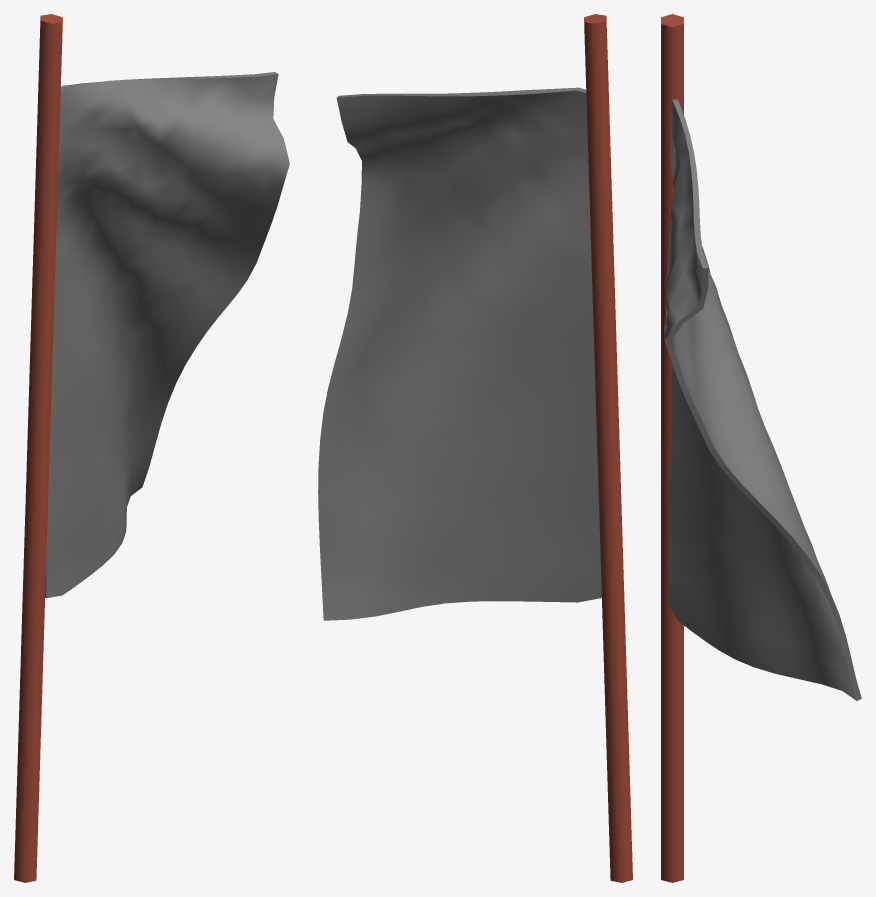
The model's file is SM_flag_shop_01.fbx.
The picture shows the model from 3 angles, left to right: view 1: azimuth 30°, elevation 25°; view 2: azimuth 150°, elevation 25°; view 3: azimuth 270°, elevation 25°; orthographic projection. The views are drawn at different scales.
Parts seen in each view (by area): view 1: Object32464; view 2: Object32464; view 3: Object32464.
Part boxes in pixels (box(x1,y1,x2,y2)): Object32464: box(14, 14, 289, 882); Object32464: box(318, 14, 632, 882); Object32464: box(661, 14, 861, 882).
Size of the model in its own units: 43.44 by 127 by 26.51.
